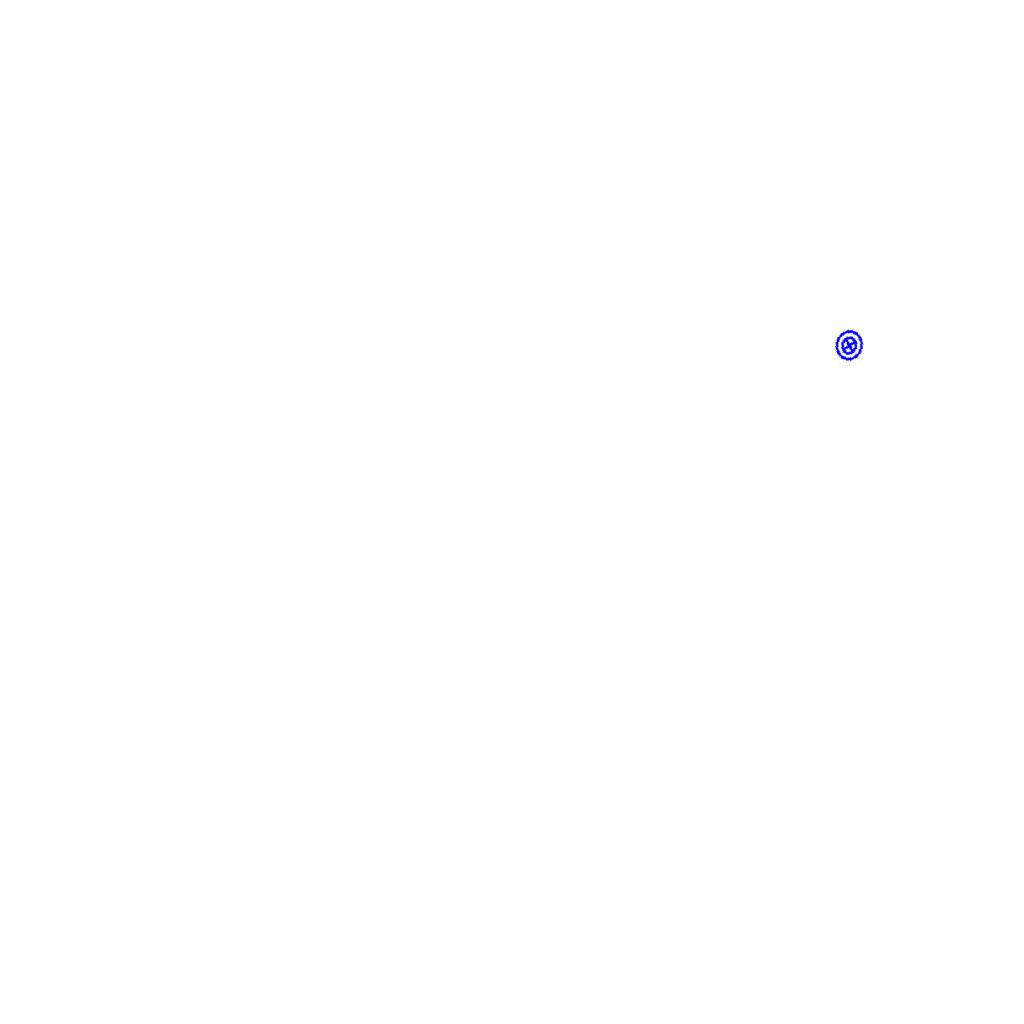Taster_beleuchtet: (829, 325, 870, 366)
